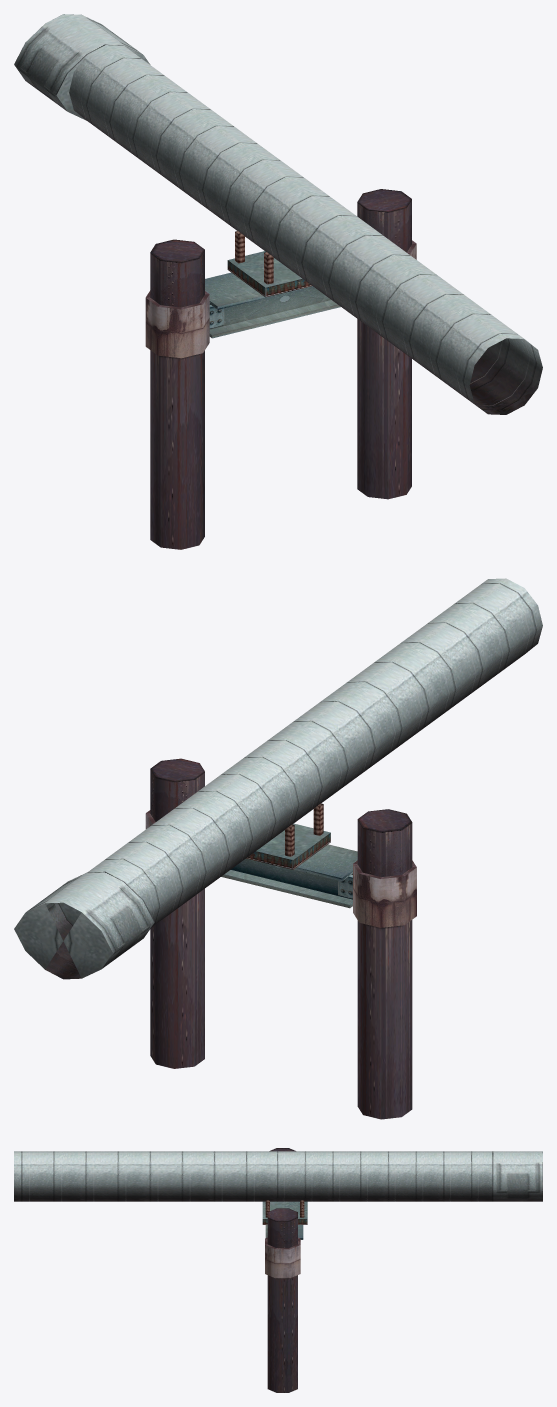
The model's file is pipes_tall.fbx.
3 views of the same model, one above another, from view 1: azimuth 30°, elevation 25°; view 2: azimuth 150°, elevation 25°; view 3: azimuth 270°, elevation 25° (orthographic). The views are drawn at different scales.
Visible parts, largest first — view 1: mesh_15, mesh_13, mesh_14, mesh_2, mesh_10, mesh_12, mesh_11; view 2: mesh_15, mesh_13, mesh_14, mesh_2, mesh_9, mesh_12, mesh_11; view 3: mesh_15, mesh_14, mesh_2.
Part boxes in pixels (x1=…): mesh_15: x1=14, y1=14, x2=542, y2=414; mesh_13: x1=145, y1=239, x2=209, y2=549; mesh_14: x1=357, y1=189, x2=416, y2=499; mesh_2: x1=227, y1=251, x2=311, y2=297; mesh_10: x1=209, y1=286, x2=331, y2=329; mesh_12: x1=205, y1=272, x2=312, y2=309; mesh_11: x1=209, y1=300, x2=340, y2=338; mesh_15: x1=14, y1=578, x2=542, y2=979; mesh_13: x1=353, y1=809, x2=416, y2=1119; mesh_14: x1=145, y1=758, x2=204, y2=1068; mesh_2: x1=246, y1=823, x2=330, y2=869; mesh_9: x1=231, y1=858, x2=352, y2=899; mesh_12: x1=294, y1=844, x2=357, y2=881; mesh_11: x1=221, y1=870, x2=352, y2=908; mesh_15: x1=14, y1=1151, x2=542, y2=1201; mesh_14: x1=265, y1=1208, x2=300, y2=1392; mesh_2: x1=262, y1=1201, x2=307, y2=1224.
Size of the model in its own units: 270 by 338 by 800.
Materials: 1 (1 with a texture image).
